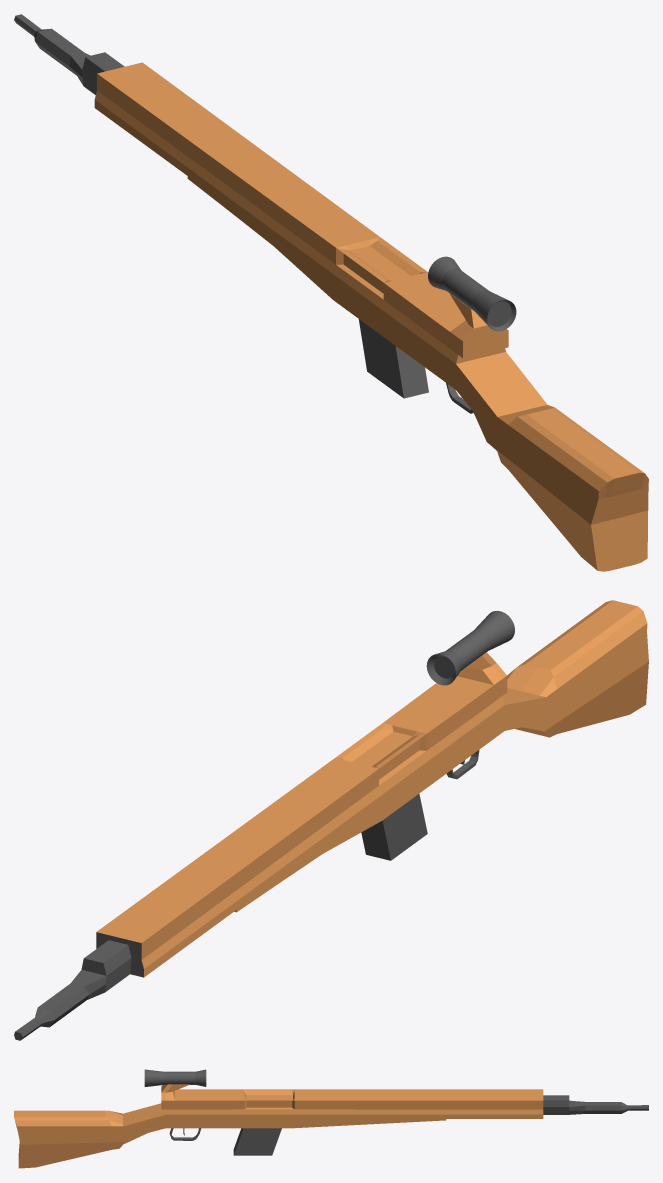
File: svt40.fbx
The picture shows the model from 3 angles, top to bottom: view 1: azimuth 30°, elevation 25°; view 2: azimuth 150°, elevation 25°; view 3: azimuth 270°, elevation 25°; orthographic projection. The views are drawn at different scales.
Parts seen in each view (by area): view 1: Cube, Cylinder; view 2: Cube, Cylinder; view 3: Cube, Cylinder.
Boxes of the visible parts, box(x1,y1,x2,y2) form: Cube: box(14, 14, 648, 571); Cylinder: box(428, 256, 516, 331); Cube: box(14, 600, 648, 1040); Cylinder: box(426, 610, 514, 685); Cube: box(14, 1084, 648, 1168); Cylinder: box(144, 1069, 206, 1086).
Bounding box in the file's own units: 27.37 × 81.99 × 505.
